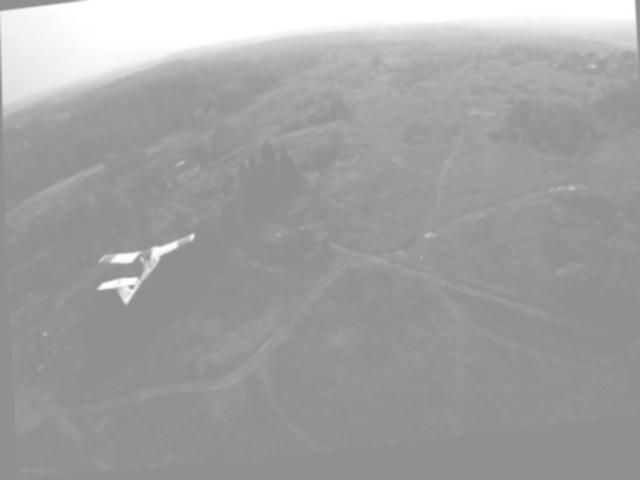hedef: (90, 223, 207, 320)
